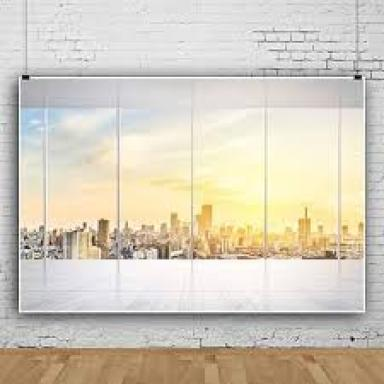glass_panel: (34, 2, 350, 68), (121, 84, 190, 256), (268, 108, 338, 256), (196, 106, 263, 258), (48, 108, 114, 258)
